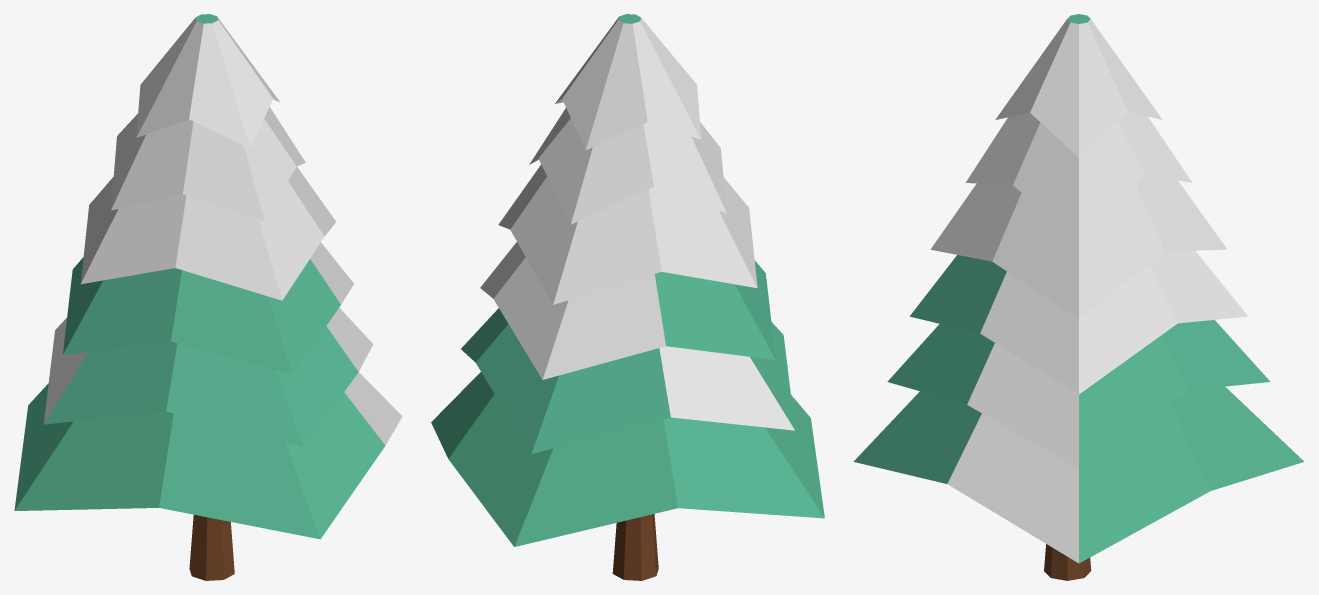
The model's file is tree_2 .fbx.
3 renders of one model, left to right at view 1: azimuth 30°, elevation 25°; view 2: azimuth 150°, elevation 25°; view 3: azimuth 270°, elevation 25°, orthographic.
Visible parts, largest first — view 1: FirTree.001; view 2: FirTree.001; view 3: FirTree.001.
Boxes of the visible parts, x1,y1,x2,y2 form: FirTree.001: [14, 14, 402, 580]; FirTree.001: [431, 14, 824, 580]; FirTree.001: [853, 14, 1304, 580].
Bounding box in the file's own units: 563 × 760 × 563.
